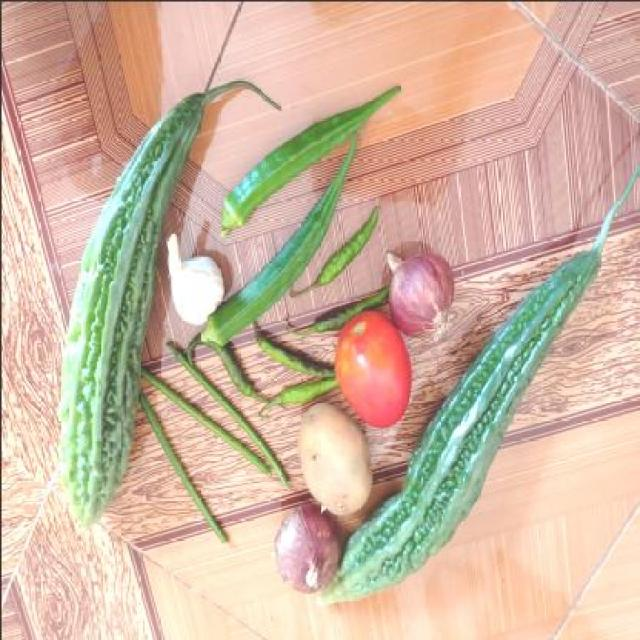Bitter melon: (381, 251, 640, 580), (60, 84, 200, 522)
Garlic: (161, 228, 217, 323)
Green Chili: (306, 201, 386, 297), (266, 372, 337, 411)
Lady finger: (217, 82, 403, 238)
Onion: (383, 246, 448, 339), (274, 506, 340, 594)
Potato: (291, 404, 372, 518)
Tomato: (334, 306, 411, 425)
